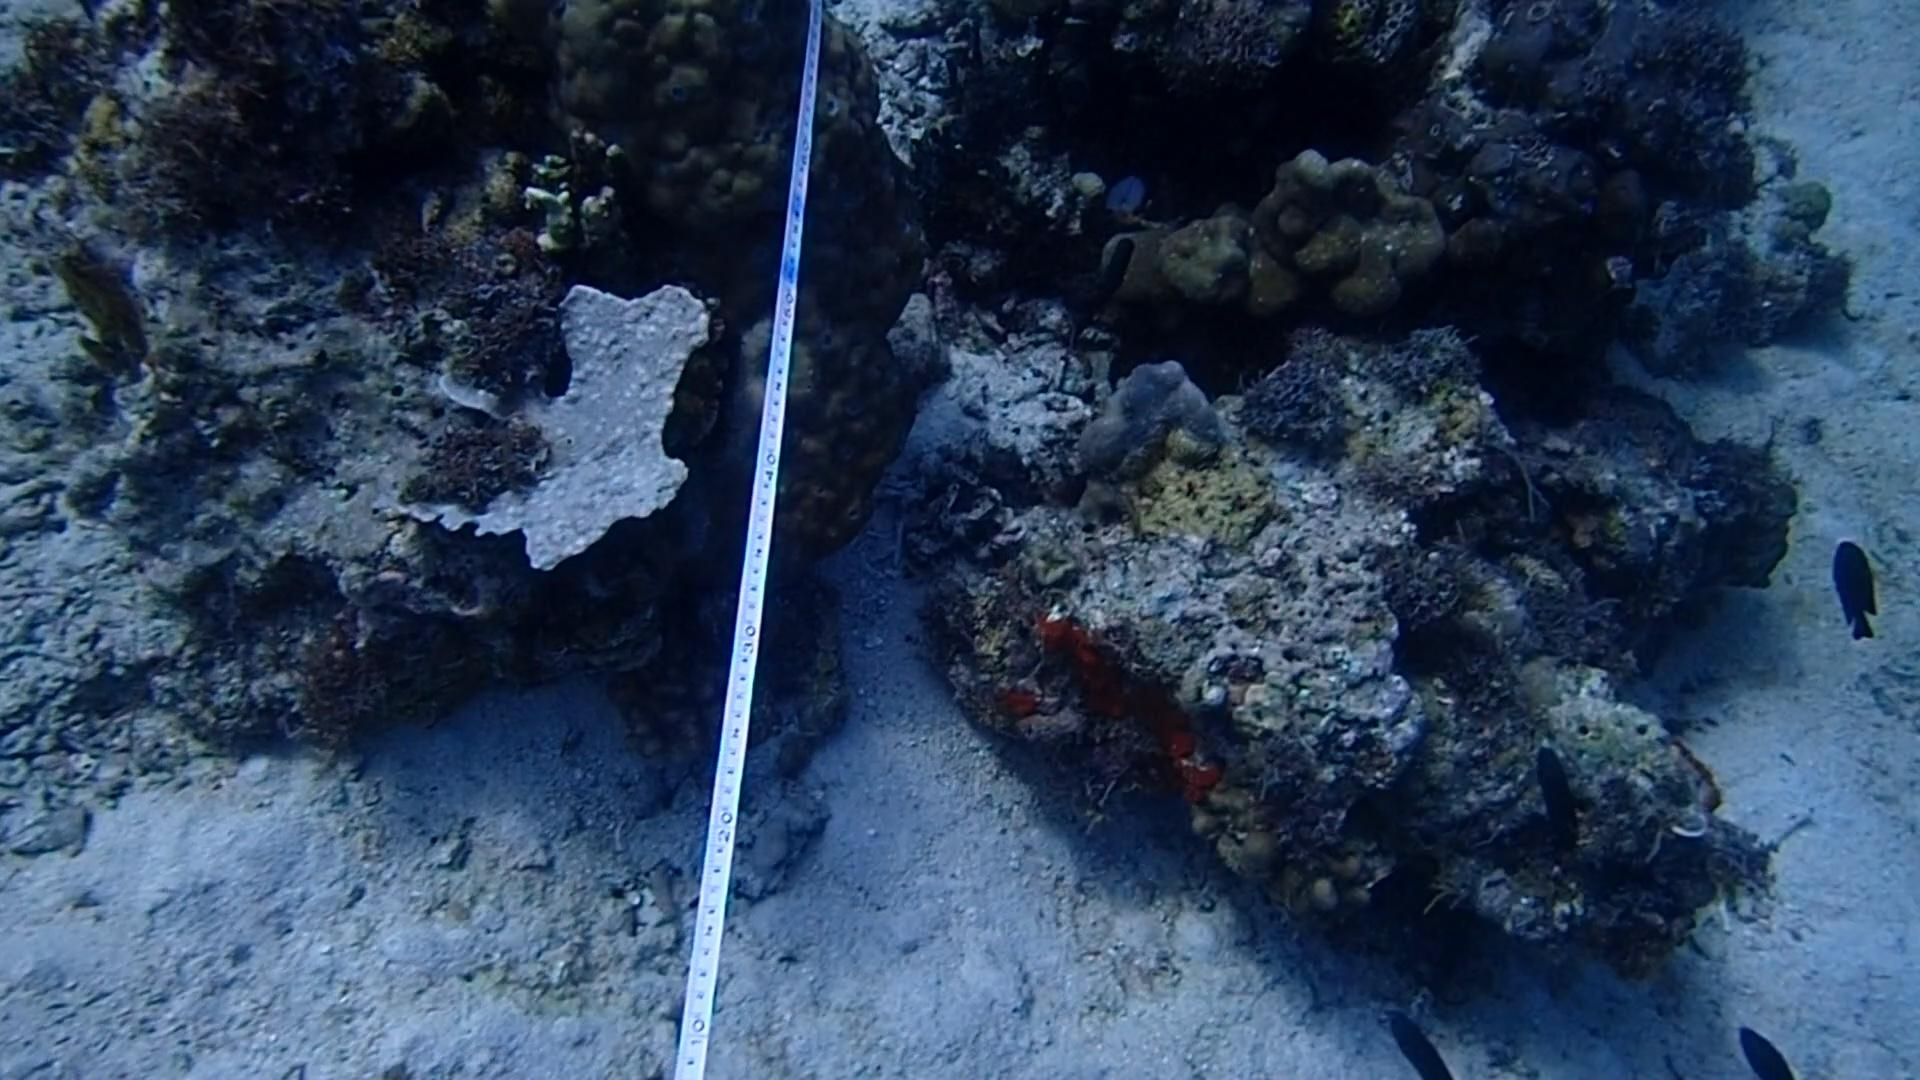Dark Fish: (1821, 526, 1892, 655), (1374, 998, 1460, 1080), (1724, 1015, 1801, 1080)
